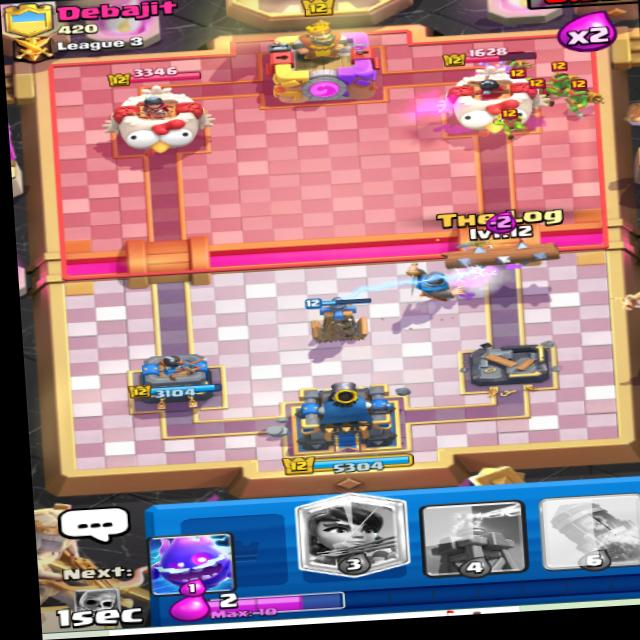goblin: (478, 99, 527, 139)
spear-goblin: (561, 78, 601, 115), (543, 58, 575, 97)
